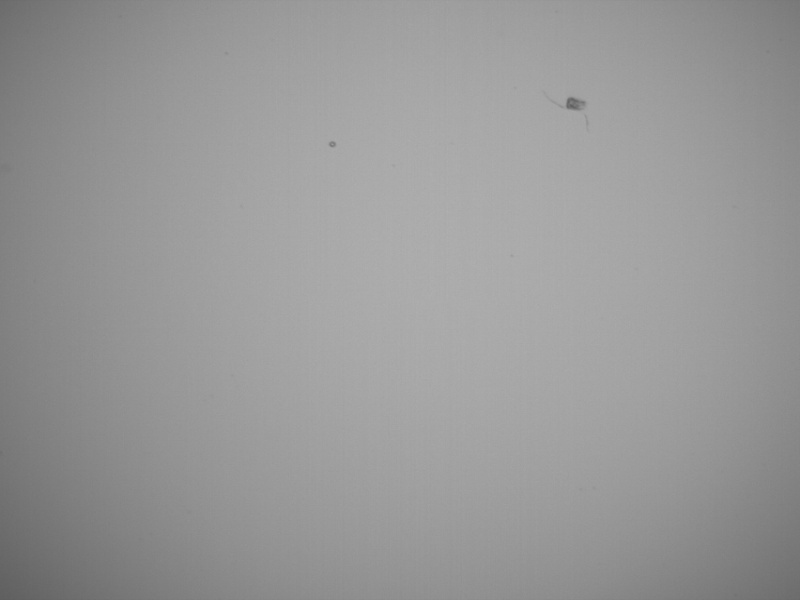fiber: (541, 86, 593, 135)
